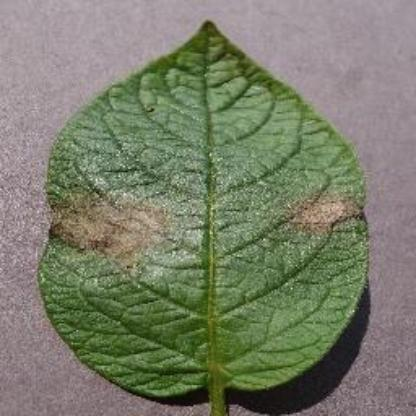Late-Blight: (33, 10, 398, 408)
